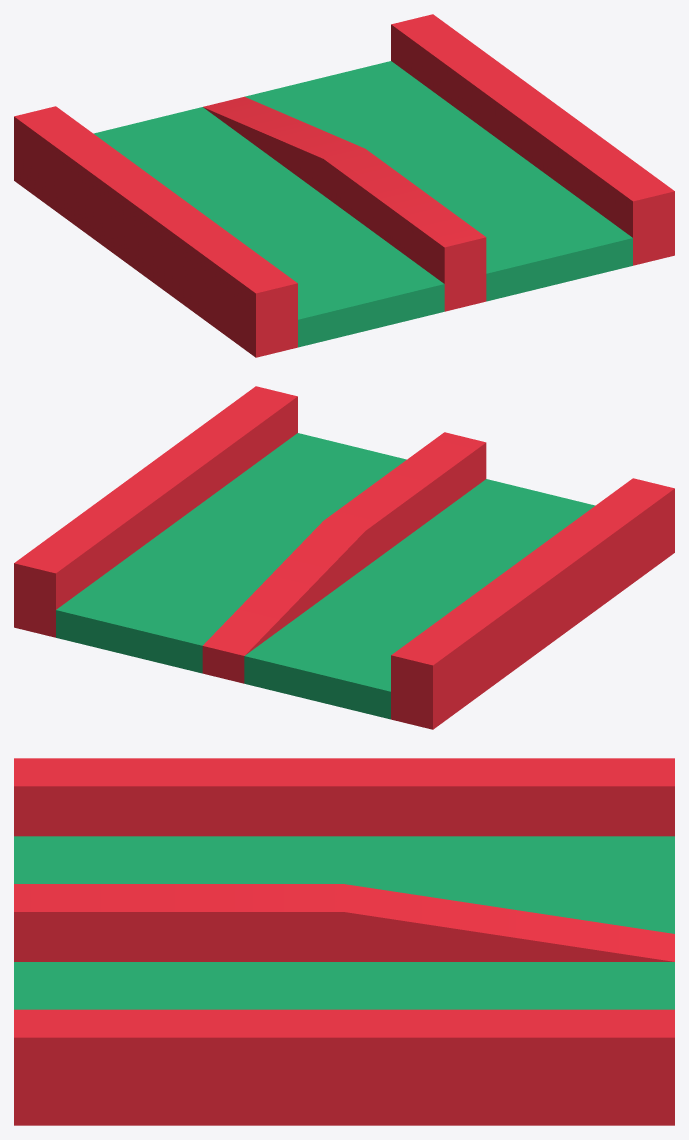
File: splitStart.fbx
3 renders of one model, top to bottom at view 1: azimuth 30°, elevation 25°; view 2: azimuth 150°, elevation 25°; view 3: azimuth 270°, elevation 25°, orthographic. The views are drawn at different scales.
Visible parts, largest first — view 1: splitStart; view 2: splitStart; view 3: splitStart.
Part boxes in pixels (x1,y1,x2,y2): splitStart: (14, 14, 674, 357); splitStart: (14, 386, 674, 729); splitStart: (14, 758, 674, 1125).
Bounding box in the file's own units: 10 × 1.47 × 10.
